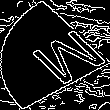M_SE: (8, 21, 102, 89)
